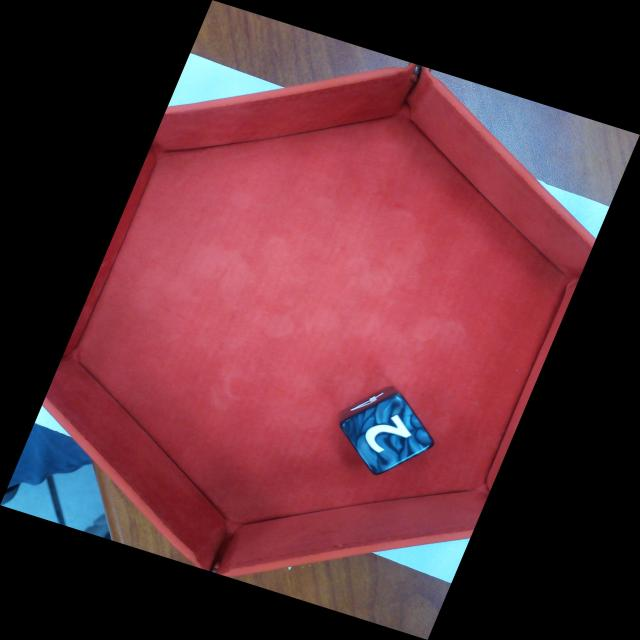dice: (340, 394, 434, 475)
